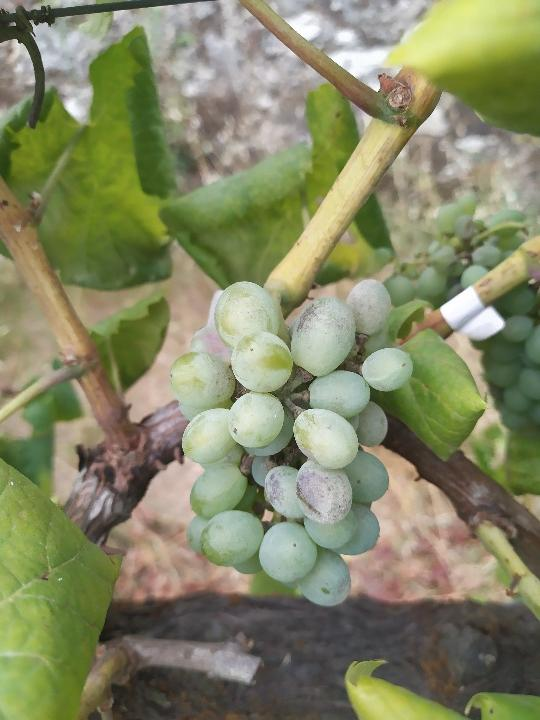grape: (167, 275, 416, 609)
